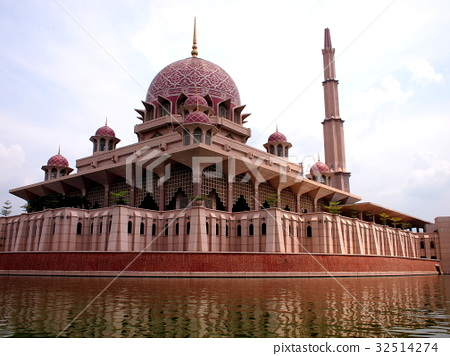Mosque: (24, 17, 435, 267)
